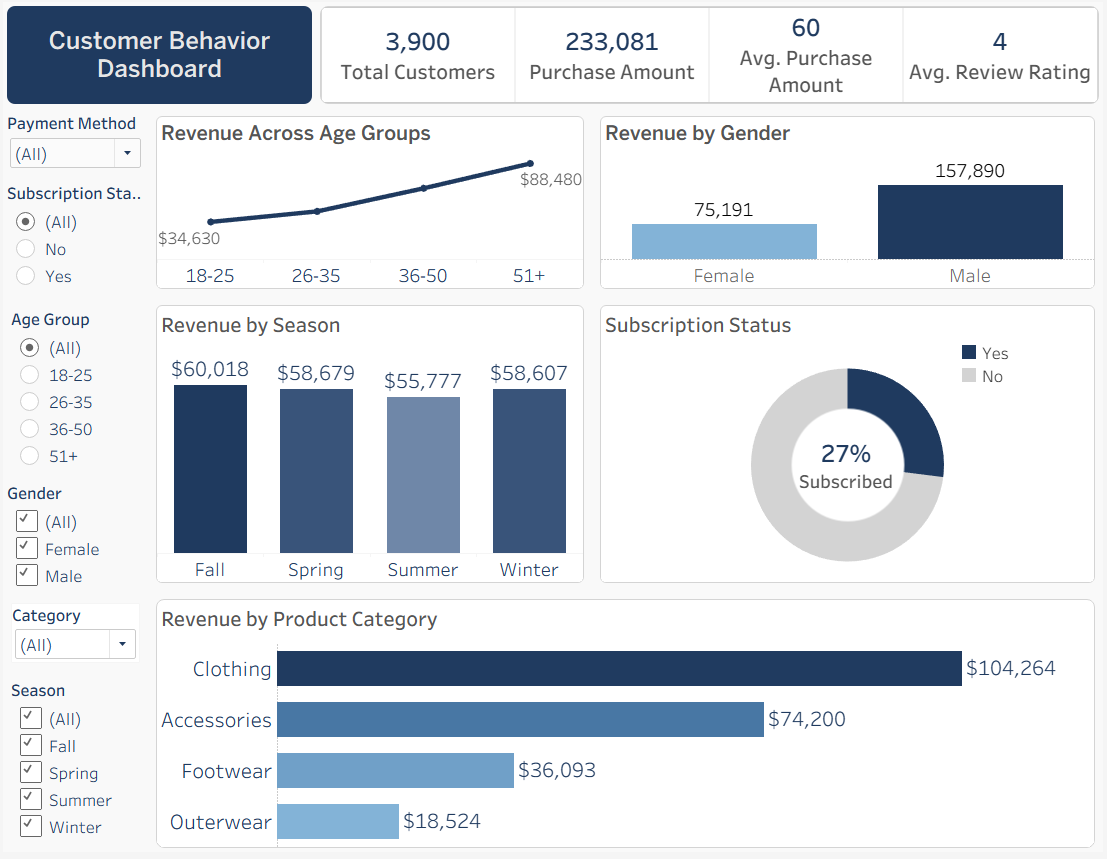

The page's visual inventory and layout, read from the dashboard file:
{"tool":"tableau","page":{"name":"Dashboard 1","canvas":[1100,850],"ordinal":0},"visuals":[{"type":"text","box":[0,0,313,106]},{"type":"worksheet","title":"KPI - Total Customers","mark":"Automatic","box":[313,0,787,106]},{"type":"filter","title":"Revenue by Category","param":"[federated.1m0lein0rpzhon16uv8ur1ag26le].[none:payment_method:nk]","box":[0,106,145,70]},{"type":"worksheet","title":"Revenue by Age Group","mark":"Line","rows":["purchase_amount"],"cols":["age_group"],"box":[145,106,444,189]},{"type":"worksheet","title":"Revenue by Gender","mark":"Automatic","rows":["purchase_amount"],"cols":["gender"],"box":[589,106,511,189]},{"type":"filter","title":"Revenue by Category","param":"[federated.1m0lein0rpzhon16uv8ur1ag26le].[none:subscription_status:nk]","box":[0,176,145,122]},{"type":"worksheet","title":"Revenue by Season","mark":"Bar","rows":["purchase_amount"],"cols":["season"],"box":[145,295,444,294]},{"type":"worksheet","title":"Subscription Status","mark":"Pie","rows":["Calculation_2704816166920194","Calculation_2704816167026692"],"box":[589,295,511,294]},{"type":"filter","title":"Revenue by Category","param":"[federated.1m0lein0rpzhon16uv8ur1ag26le].[none:age_group:nk]","box":[0,298,145,178]},{"type":"legend","title":"Subscription Status","param":"[federated.1m0lein0rpzhon16uv8ur1ag26le].[none:subscription_status:nk]","box":[955,339,147,76]},{"type":"filter","title":"Revenue by Category","param":"[federated.1m0lein0rpzhon16uv8ur1ag26le].[none:gender:nk]","box":[0,476,145,117]},{"type":"worksheet","title":"Revenue by Category","mark":"Bar","rows":["category"],"cols":["purchase_amount"],"box":[145,589,955,261]},{"type":"filter","title":"Revenue by Category","param":"[federated.1m0lein0rpzhon16uv8ur1ag26le].[none:category:nk]","box":[0,593,145,76]},{"type":"filter","title":"Revenue by Category","param":"[federated.1m0lein0rpzhon16uv8ur1ag26le].[none:season:nk]","box":[0,669,145,181]}]}

Visuals, with their boxes in screenshot pixels (x1, y1, x2, y2), scaled from the page's 1100x850 canvas onto the 1107x859 screenshot:
text: detection(0, 0, 315, 107)
"KPI - Total Customers" worksheet: detection(315, 0, 1106, 107)
"Revenue by Category" filter: detection(0, 107, 146, 178)
"Revenue by Age Group" worksheet (Line marks): detection(146, 107, 593, 298)
"Revenue by Gender" worksheet: detection(593, 107, 1106, 298)
"Revenue by Category" filter: detection(0, 178, 146, 301)
"Revenue by Season" worksheet (Bar marks): detection(146, 298, 593, 595)
"Subscription Status" worksheet (Pie marks): detection(593, 298, 1106, 595)
"Revenue by Category" filter: detection(0, 301, 146, 481)
"Subscription Status" legend: detection(961, 343, 1106, 419)
"Revenue by Category" filter: detection(0, 481, 146, 599)
"Revenue by Category" worksheet (Bar marks): detection(146, 595, 1106, 858)
"Revenue by Category" filter: detection(0, 599, 146, 676)
"Revenue by Category" filter: detection(0, 676, 146, 858)
